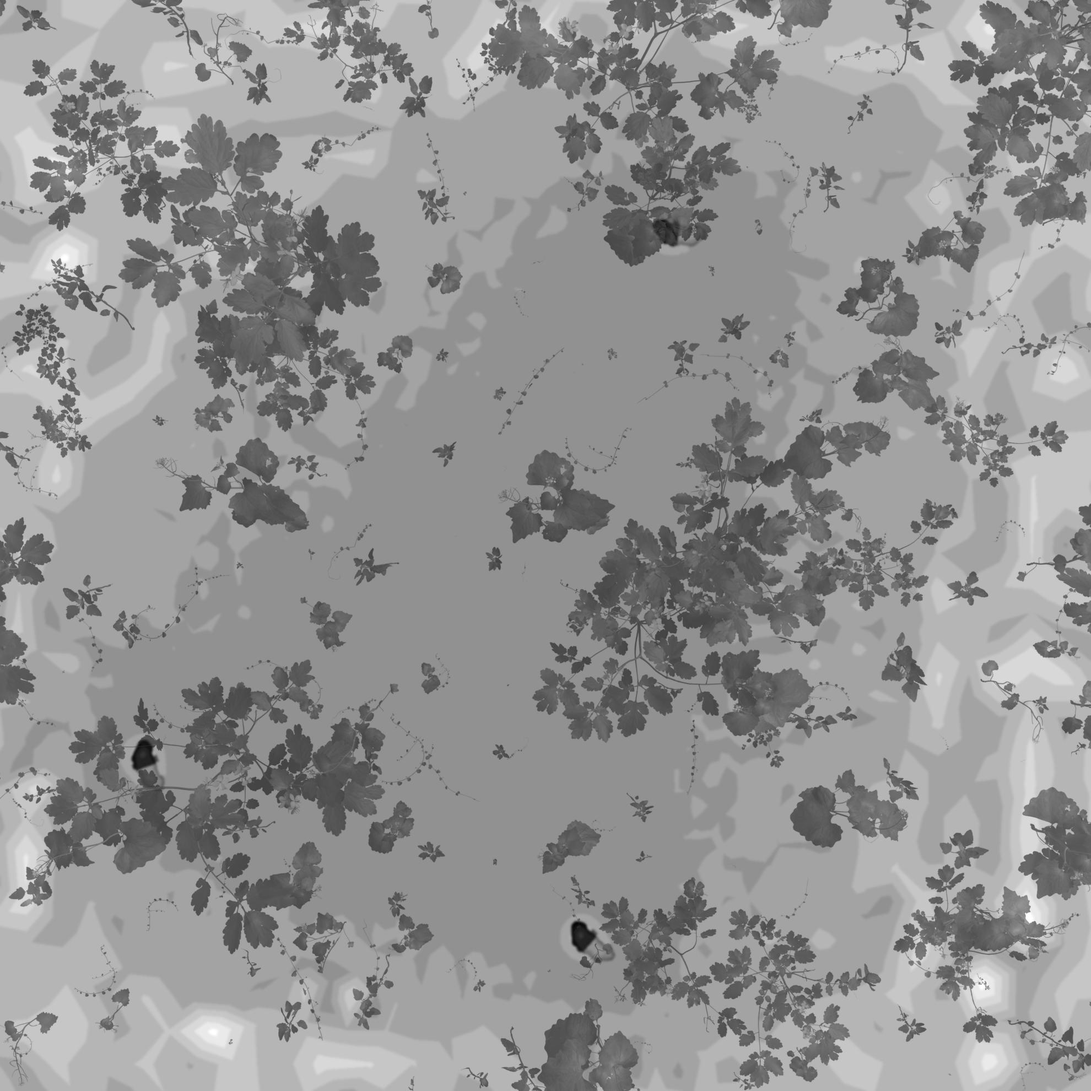landmine: (568, 918, 618, 967), (131, 736, 169, 796)
